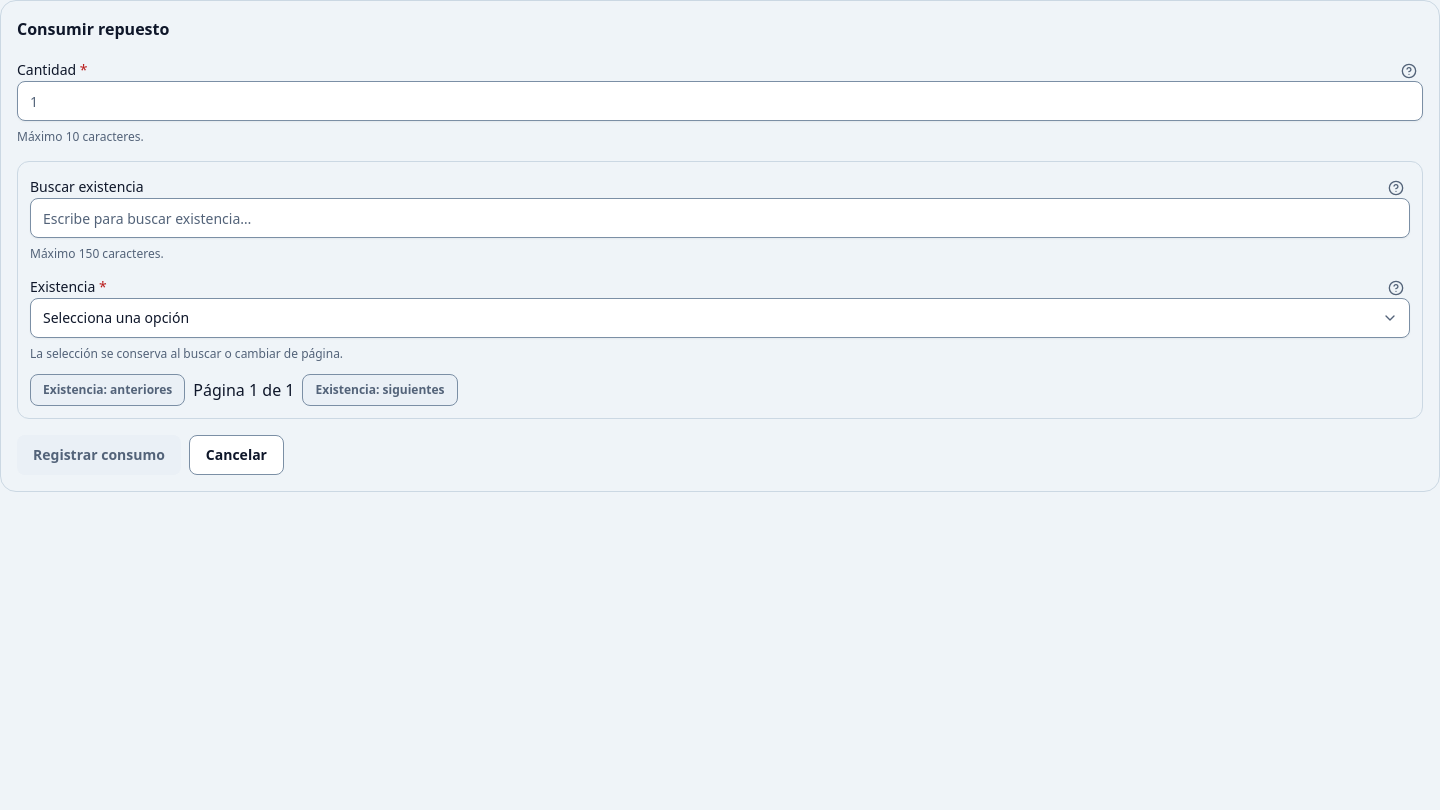
reparaciones operativas › consume inventario real, valida stock y registra solo IDs/cantidad; invalida stock, caja y dashboard
Select "Central · REP-9 · Conector · Existencia: 3" in the dropdown labelled "Existencia *" at (720, 318), box [30, 298, 1410, 338]
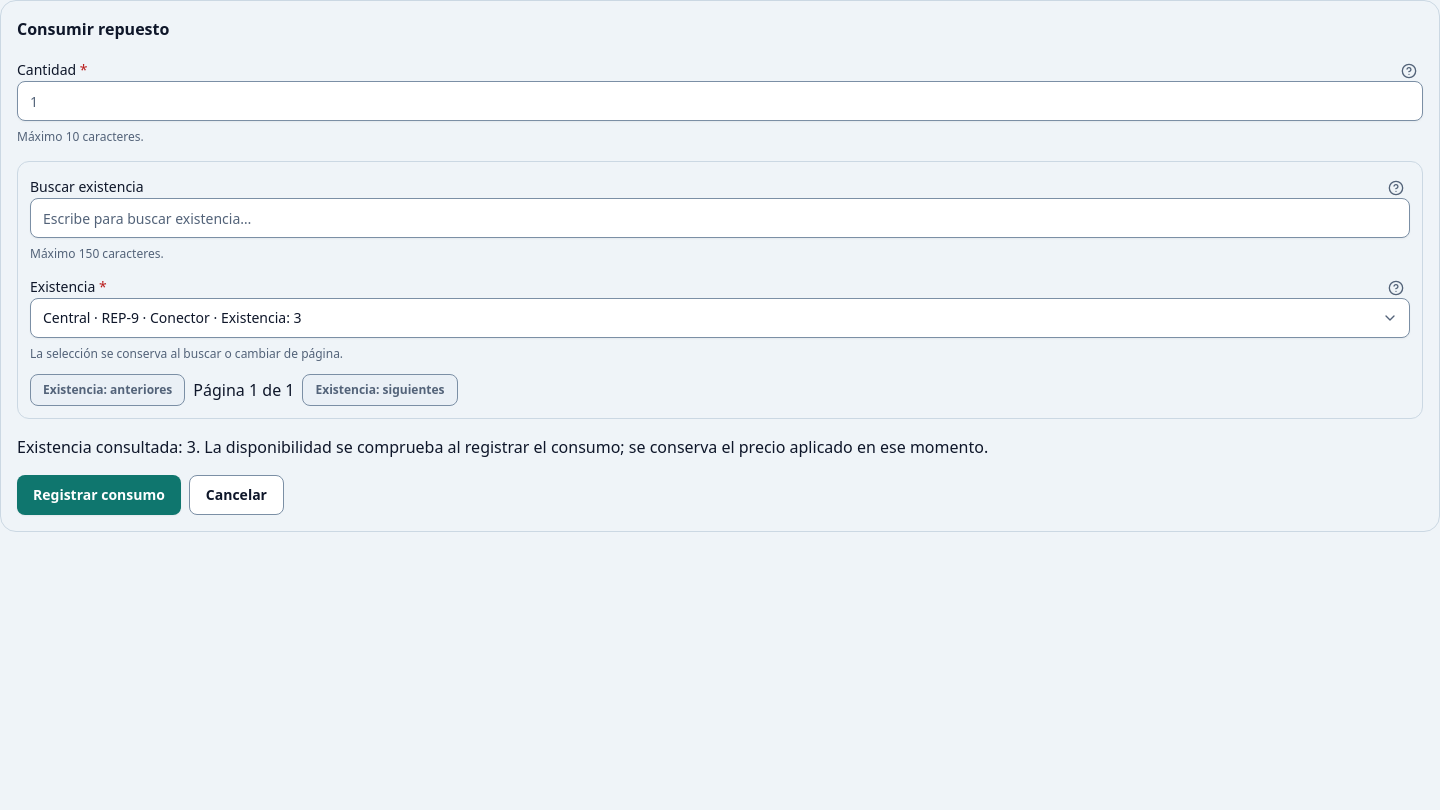
Type "4" into the field labelled "Cantidad *" at (720, 101), box [17, 81, 1423, 121]
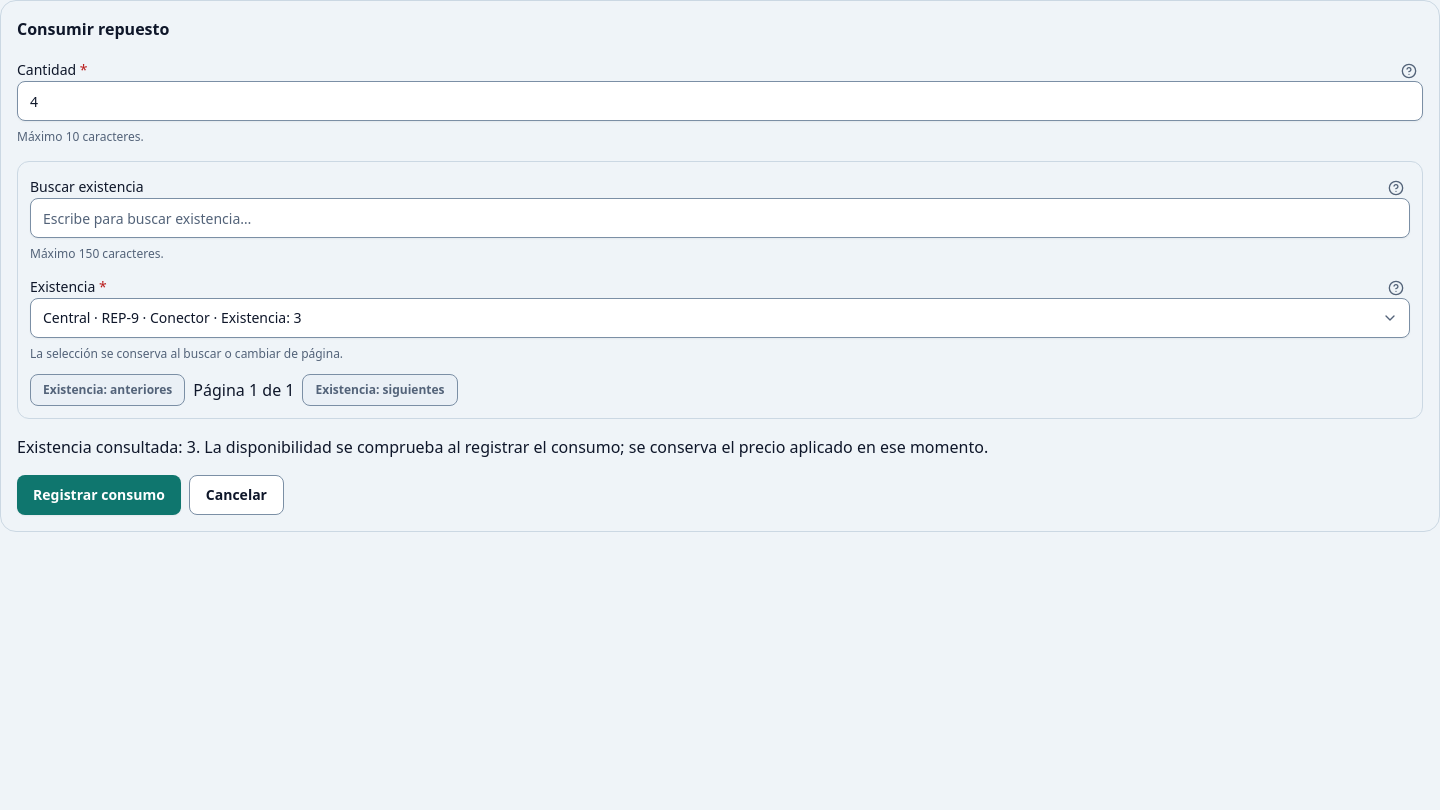
Submit the form "Consumir repuesto"
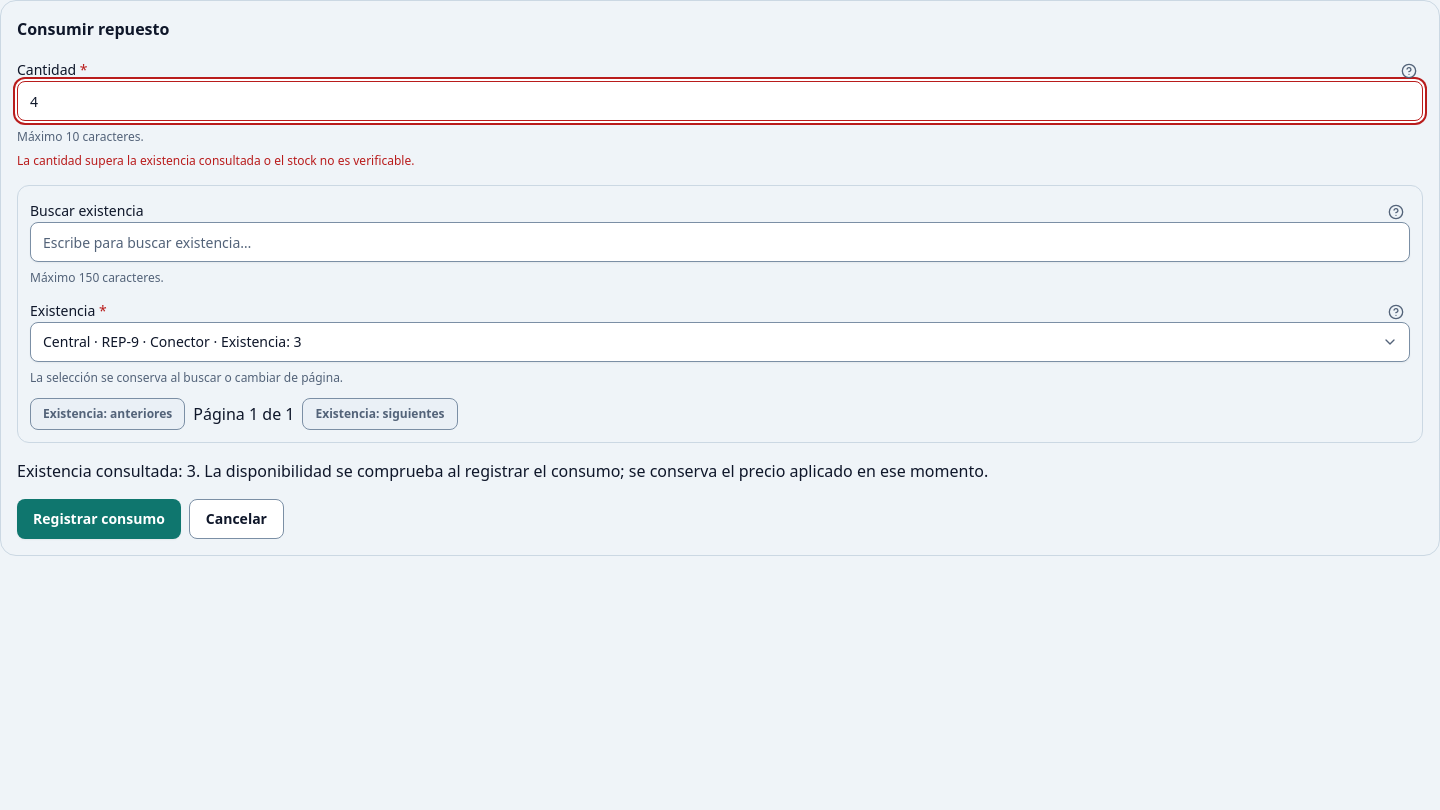
Now the text "La cantidad supera la existencia consultada o el stock no es verificable." is shown, box [17, 152, 414, 169]
Replace the text in the field labelled "Cantidad *" with "2" at (720, 101), box [17, 81, 1423, 121]
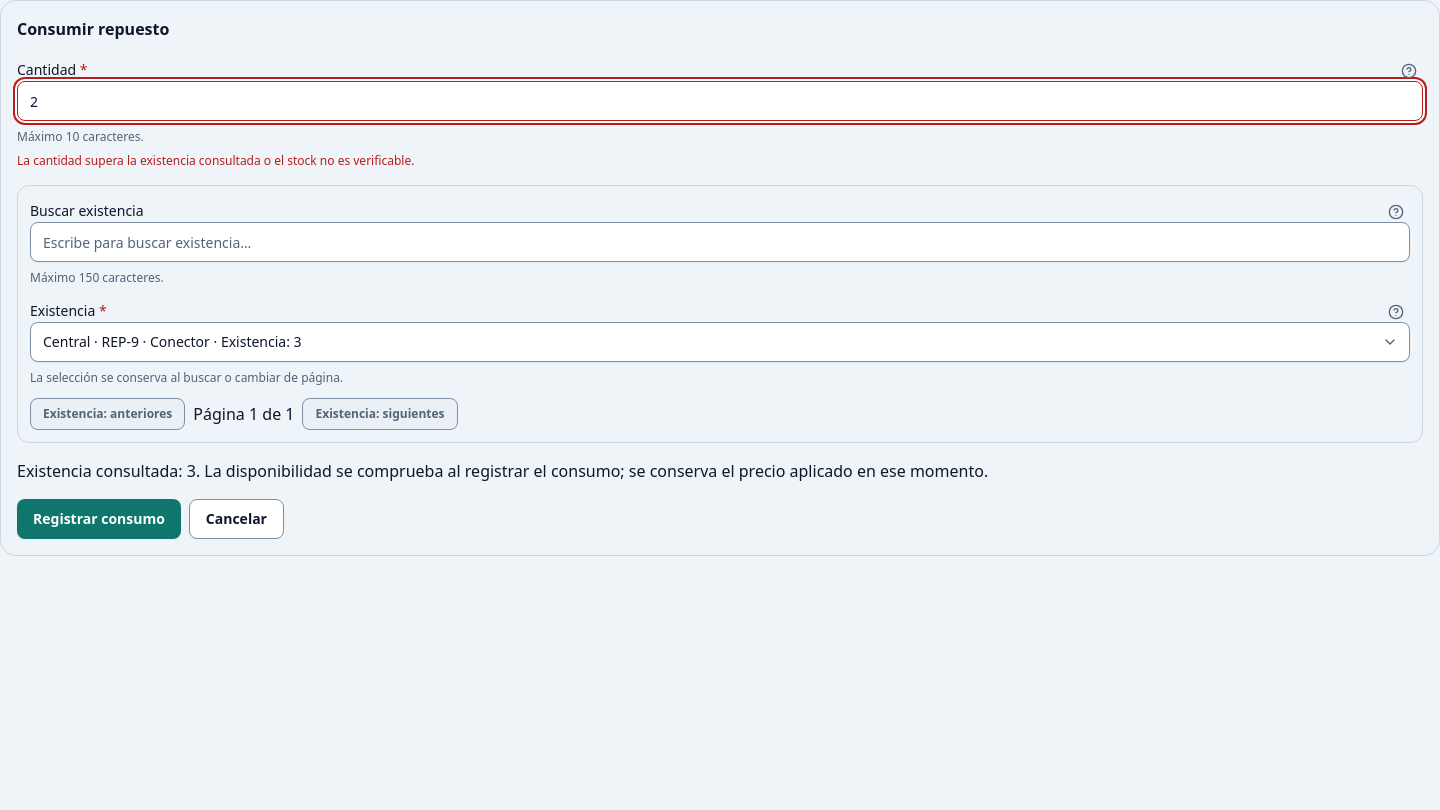
Submit the form "Consumir repuesto"
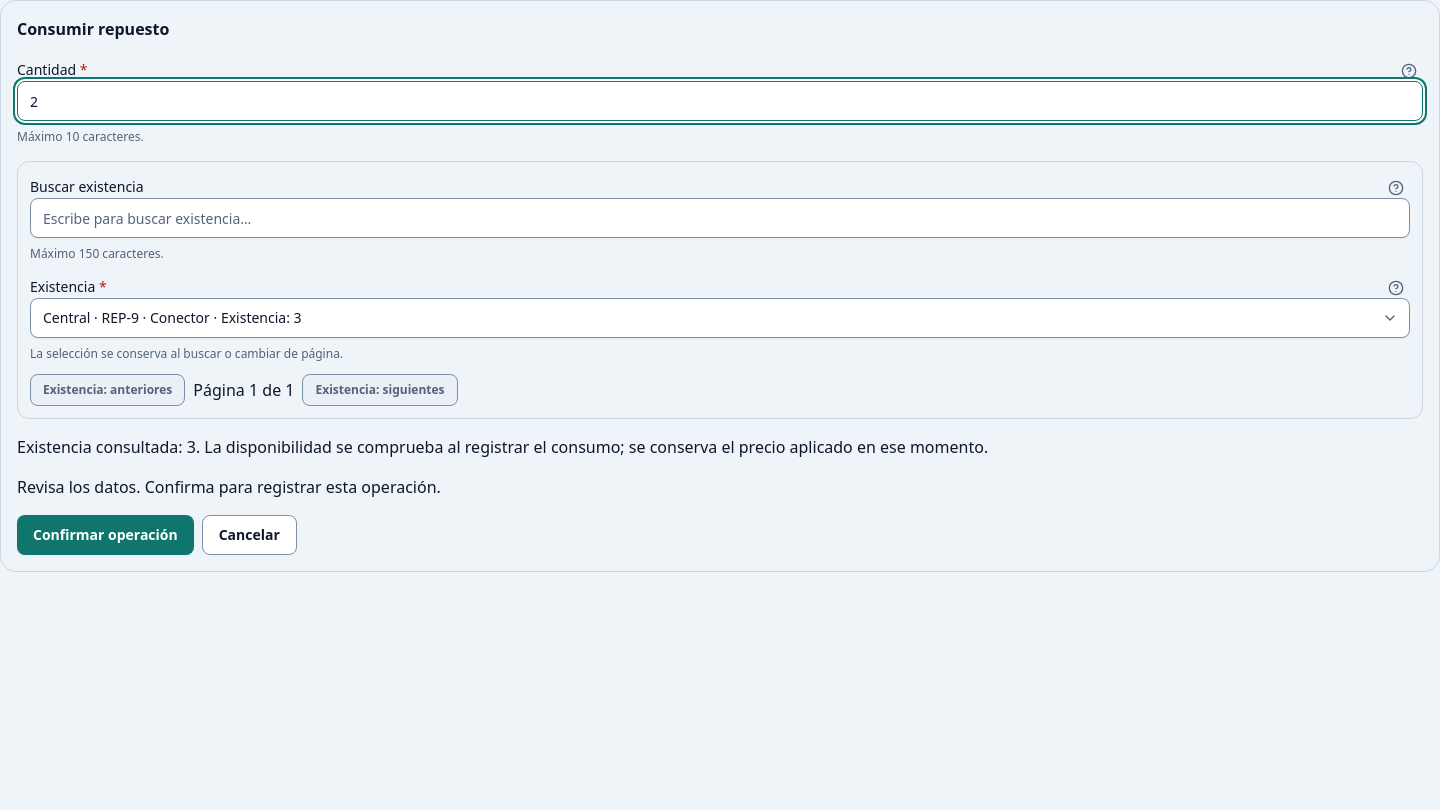
Click the button "Confirmar operación" at (105, 535), box [17, 515, 194, 555]
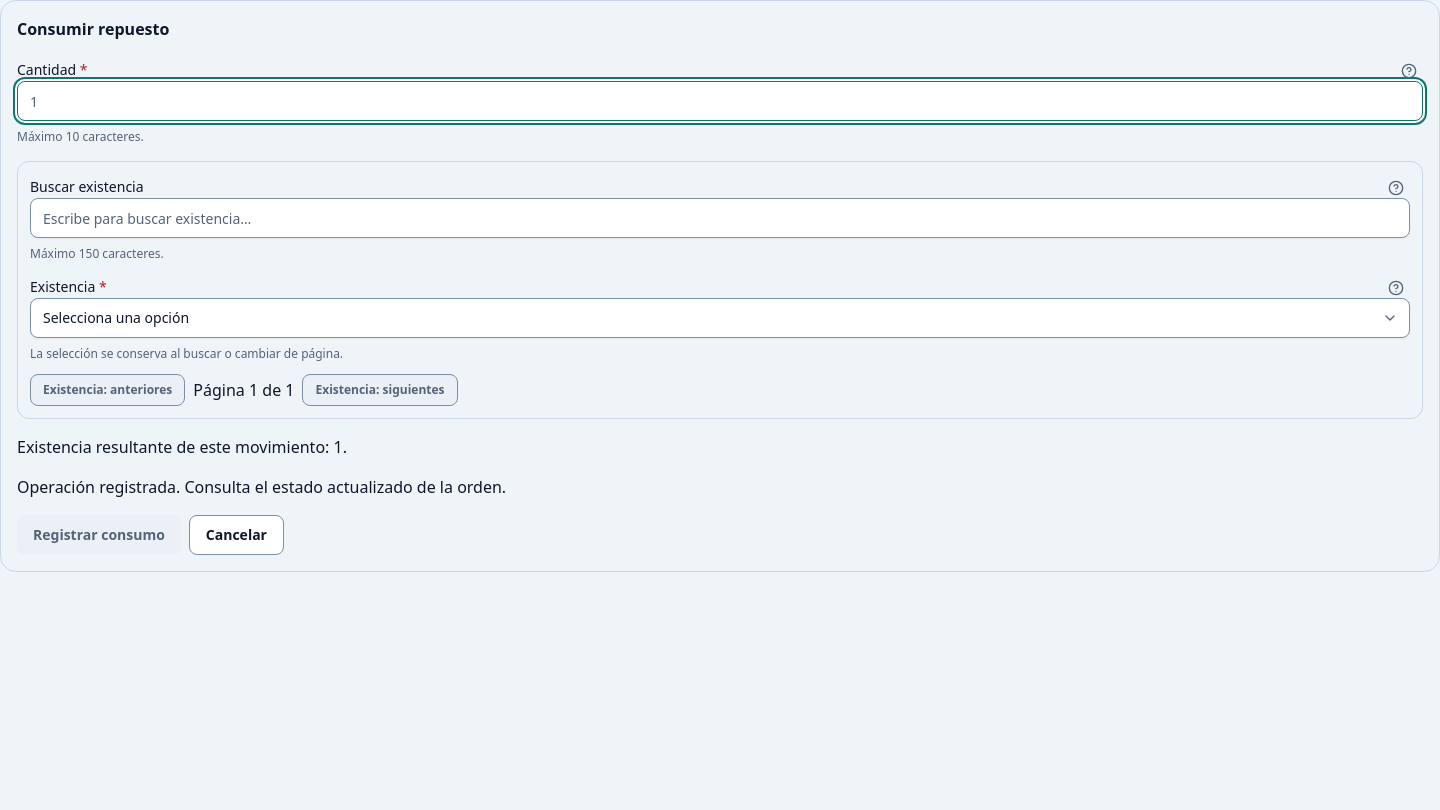
Now the text "Existencia resultante de este movimiento: 1." is shown, box [17, 436, 347, 458]
